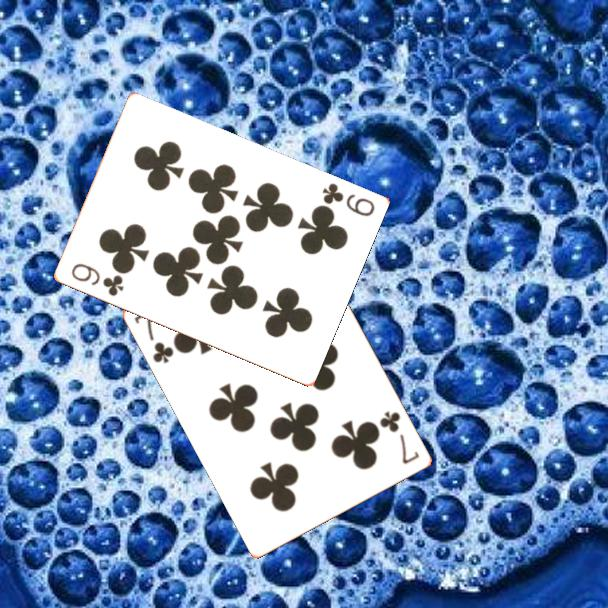c07: (376, 407, 423, 467), (131, 307, 177, 367)
c09: (318, 180, 377, 220), (67, 260, 126, 299)
